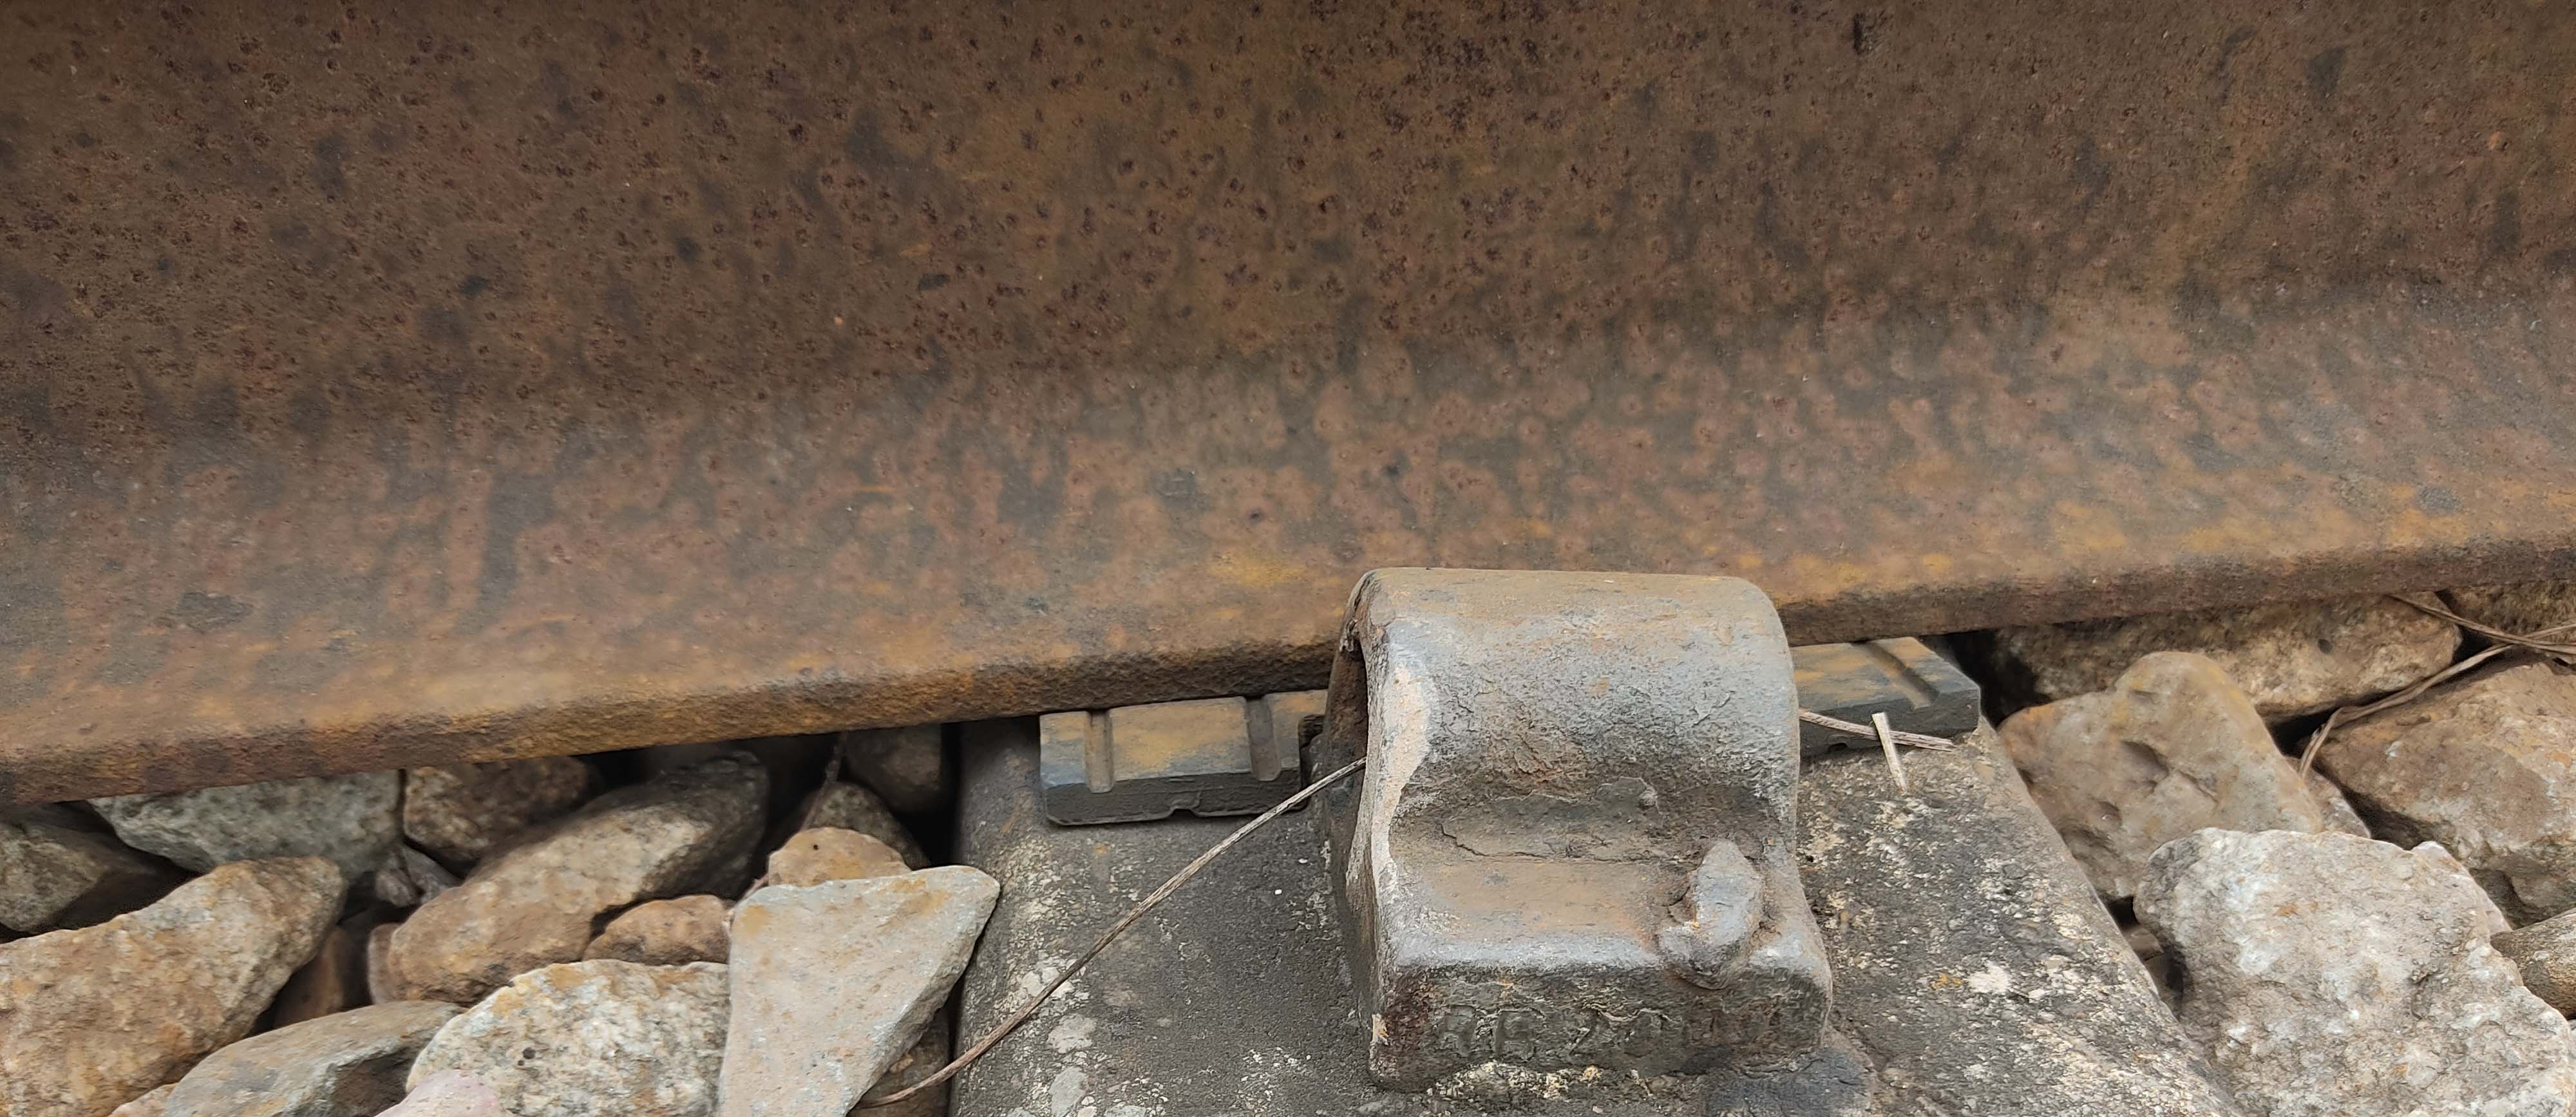error1: (1319, 486, 1855, 1056)
